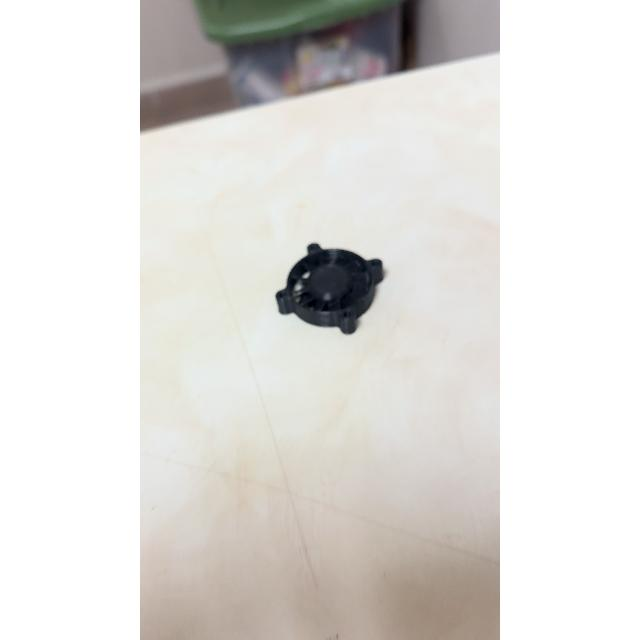Pieza_4: (262, 222, 392, 348)
